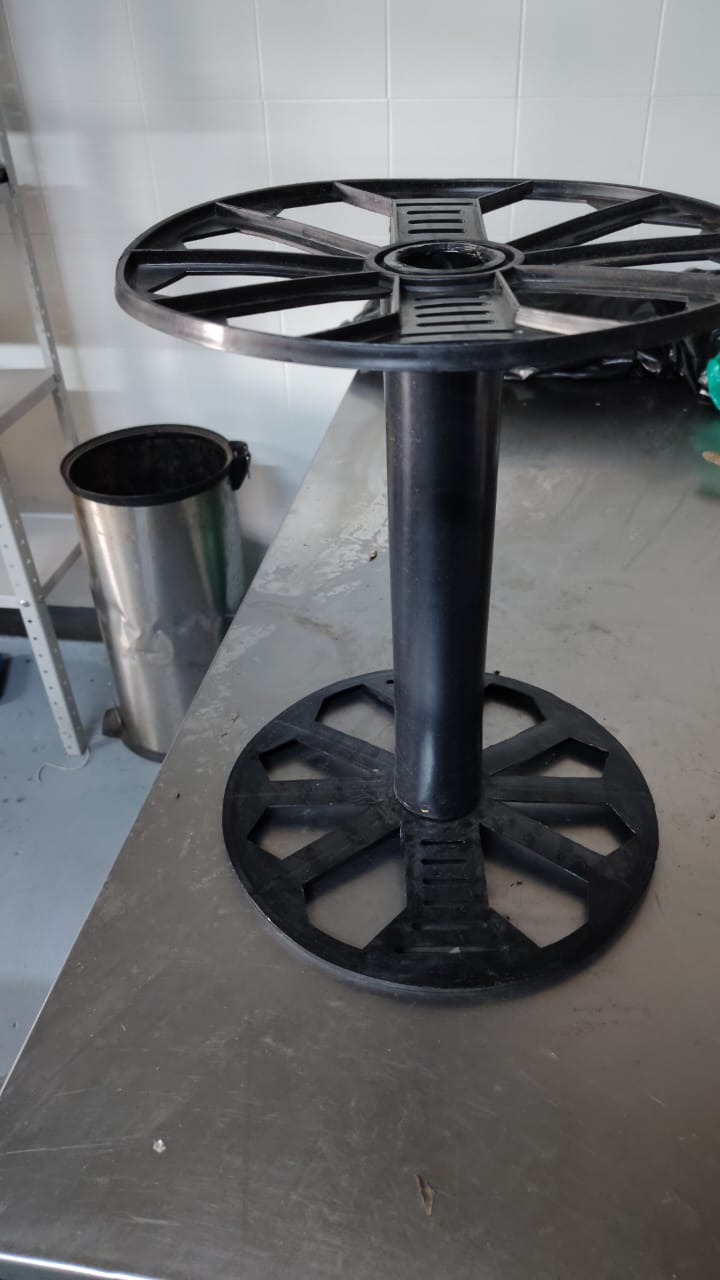Plastico: (111, 182, 720, 1000)
